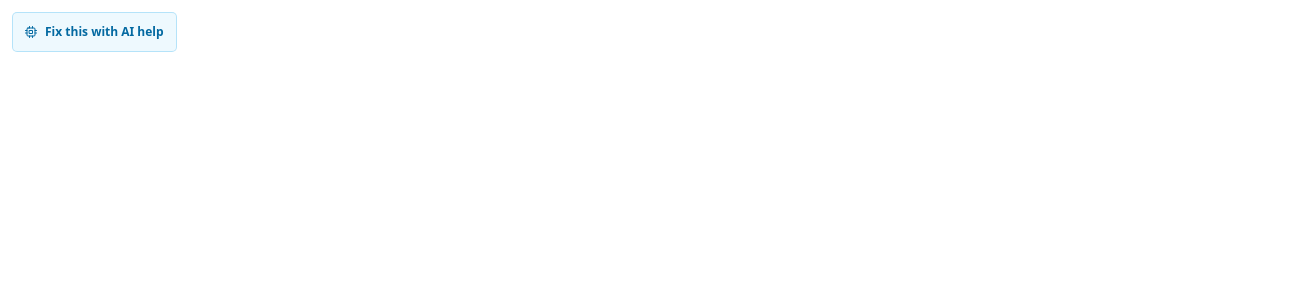
applying a remediation › shows what could break and what gets better, both marked as the AI's
Click the button "Fix this with AI help". click: (94,32)
box: [12,12,177,52]
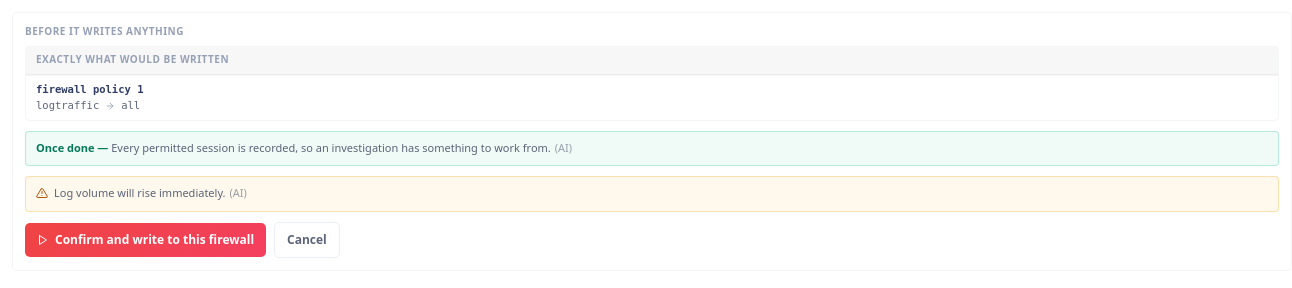
Expected: the text "(AI)" is shown, [555,140,572,156]
Expected: the text "Log volume will rise immediately." is shown, [54,185,226,202]
Expected: the text "Every permitted session is recorded" is shown, [111,140,551,156]
